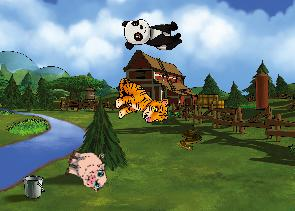panda: (122, 18, 182, 50)
pig: (61, 145, 112, 193)
tiger: (114, 78, 168, 123)
